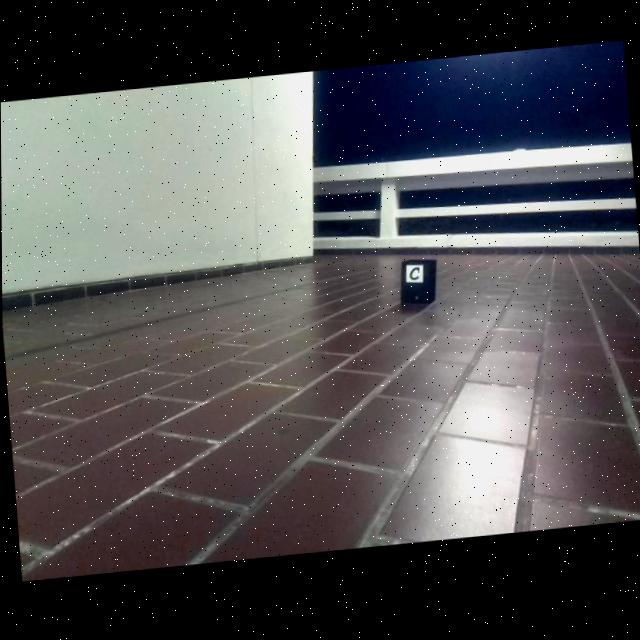C: (409, 268, 420, 283)
